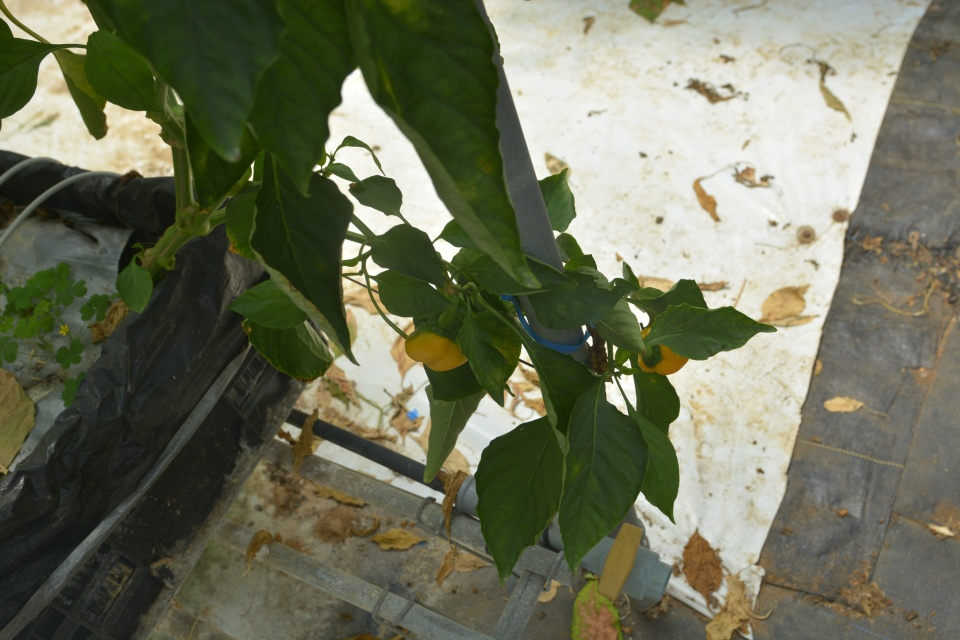fruit: (403, 309, 469, 372), (636, 324, 689, 375)
pedicle: (426, 308, 465, 341), (642, 334, 661, 368)
